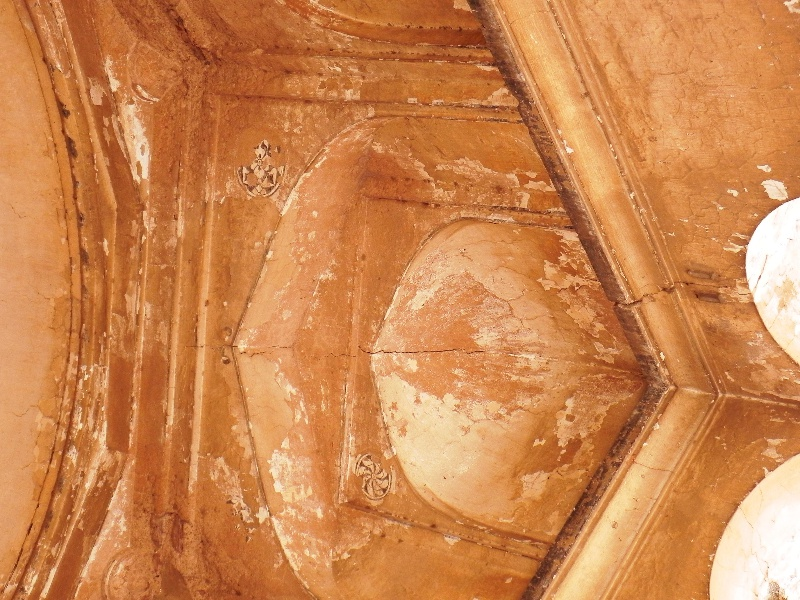Crack: (348, 340, 489, 360), (602, 283, 680, 312), (224, 337, 295, 358)
